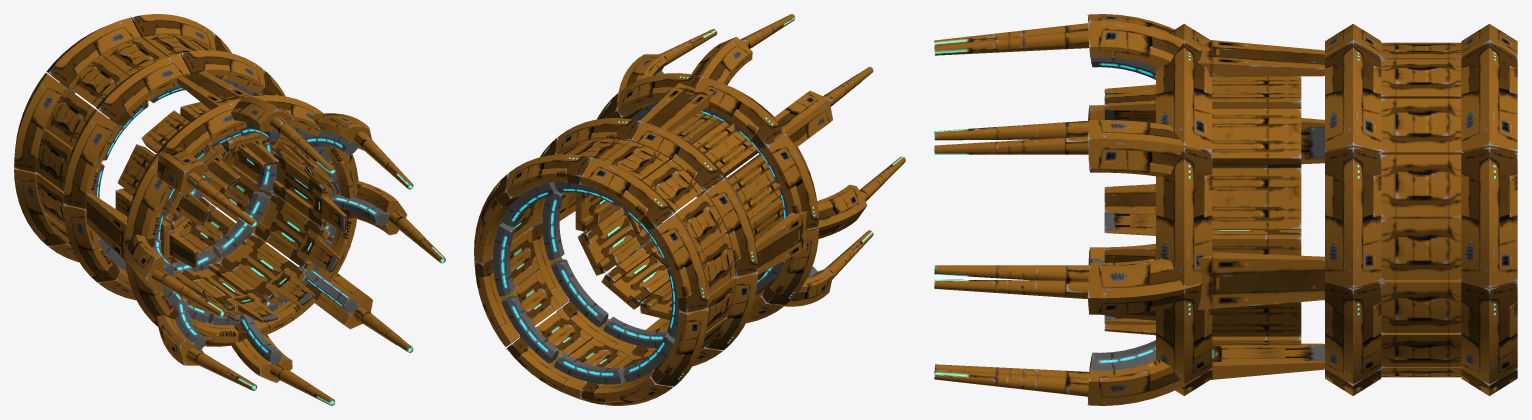
Rendered from WarpGate11_sm.gltf.
3 views of the same model, side by side, from view 1: azimuth 30°, elevation 25°; view 2: azimuth 150°, elevation 25°; view 3: azimuth 270°, elevation 25° (orthographic). The views are drawn at different scales.
Visible parts, largest first — view 1: WarpGate11; view 2: WarpGate11; view 3: WarpGate11.
Boxes of the visible parts, x1,y1,x2,y2 form: WarpGate11: (14,14,445,405); WarpGate11: (474,14,905,405); WarpGate11: (934,14,1517,405).
Size of the model in its own units: 58.46 by 58.46 by 81.74.
Materials: 1 (1 with a texture image).
